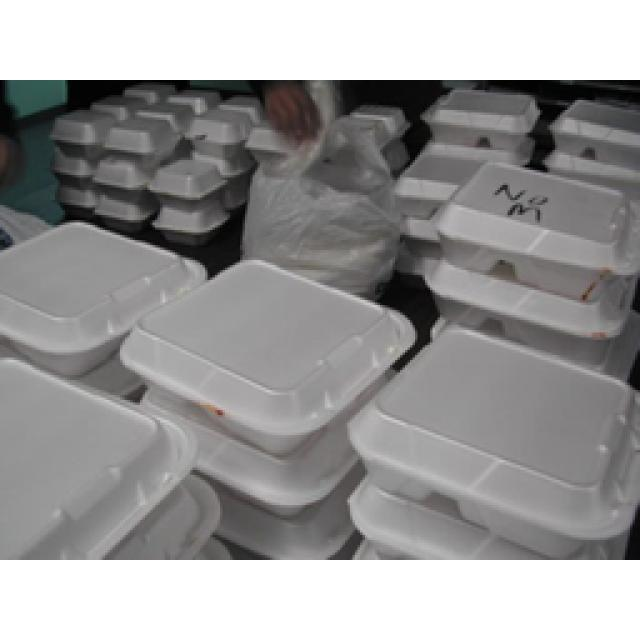styrofoam: (0, 88, 638, 558)
